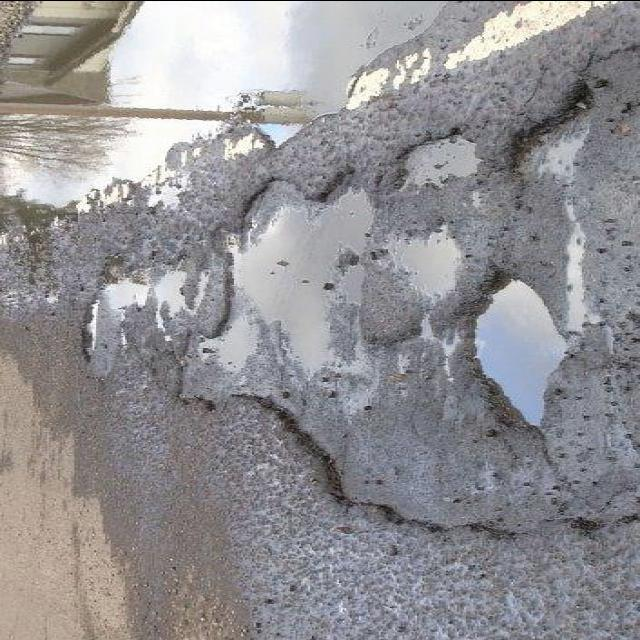lubang: (150, 60, 640, 545), (203, 172, 375, 388), (438, 269, 590, 446), (68, 252, 192, 365), (496, 77, 606, 202), (374, 123, 502, 205), (368, 226, 468, 304), (68, 288, 106, 364)
